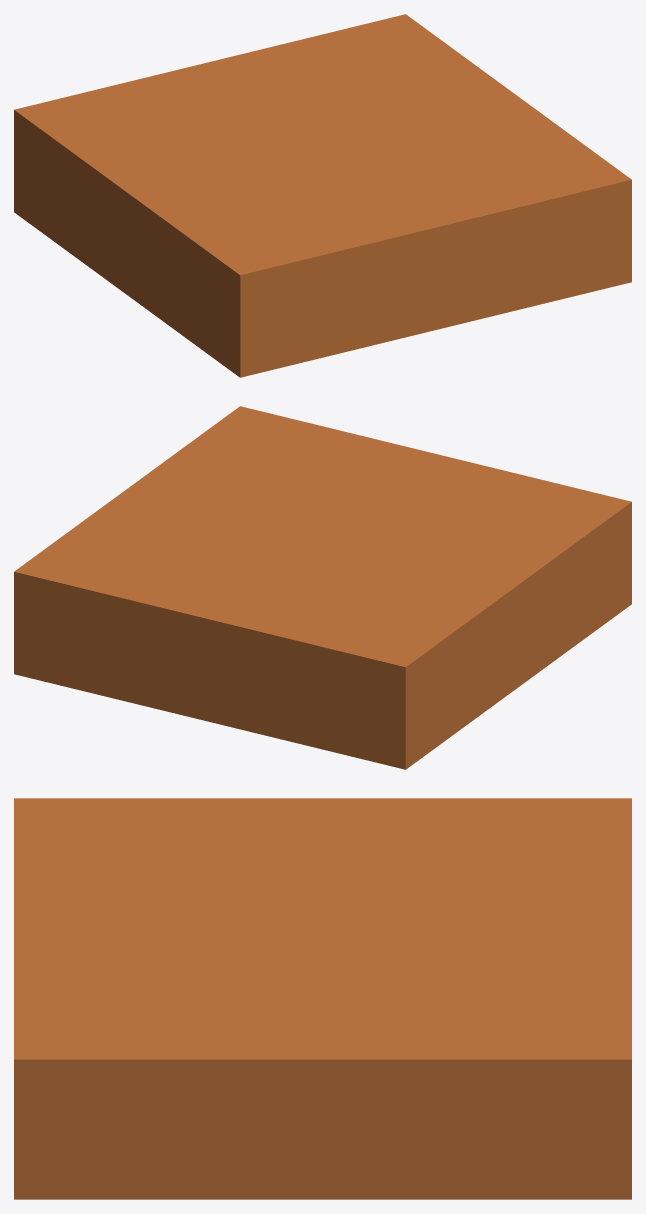
File: good_terrain_slab.glb
The picture shows the model from 3 angles, top to bottom: view 1: azimuth 30°, elevation 25°; view 2: azimuth 150°, elevation 25°; view 3: azimuth 270°, elevation 25°; orthographic projection. The views are drawn at different scales.
Parts seen in each view (by area): view 1: terrain_slab; view 2: terrain_slab; view 3: terrain_slab.
Boxes of the visible parts, left/top/right/bottom form: terrain_slab: left=14, top=14, right=631, bottom=377; terrain_slab: left=14, top=406, right=631, bottom=769; terrain_slab: left=14, top=798, right=631, bottom=1199.
Size of the model in its own units: 16 by 4 by 16.
Materials: 1 (1 with a texture image).
